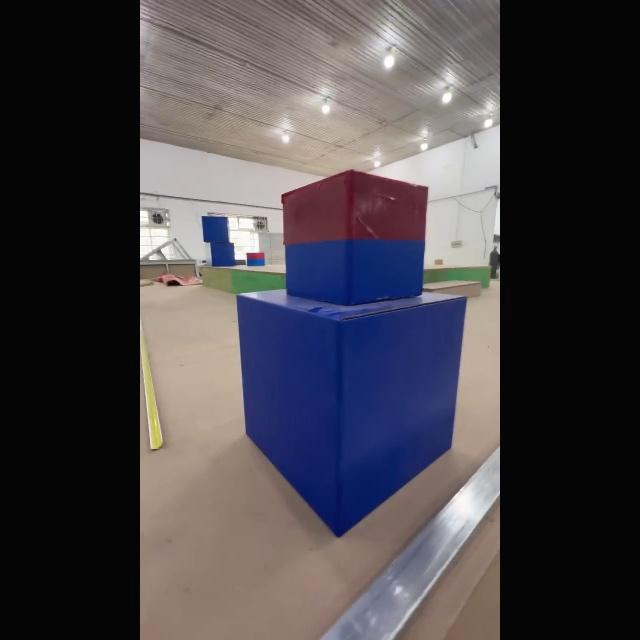earth_block: (232, 289, 467, 537)
sky_block: (274, 168, 432, 306)
